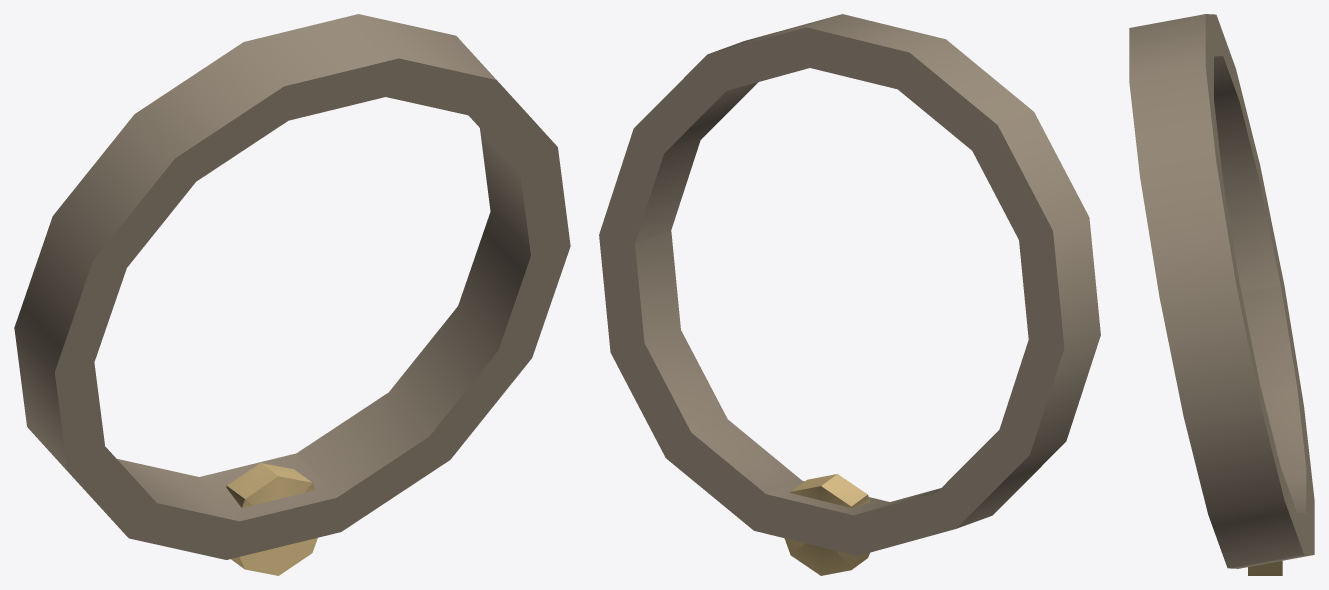
Rendered from dog_collar.glb.
3 views of the same model, side by side, from view 1: azimuth 30°, elevation 25°; view 2: azimuth 150°, elevation 25°; view 3: azimuth 270°, elevation 25° (orthographic). The views are drawn at different scales.
Visible parts, largest first — view 1: static; view 2: static; view 3: static.
Boxes of the visible parts, box(x1,y1,x2,y2) form: static: box(14, 14, 570, 575); static: box(599, 14, 1100, 575); static: box(1129, 14, 1314, 575).
Bounding box in the file's own units: 0.13 × 0.1359 × 0.0428.
